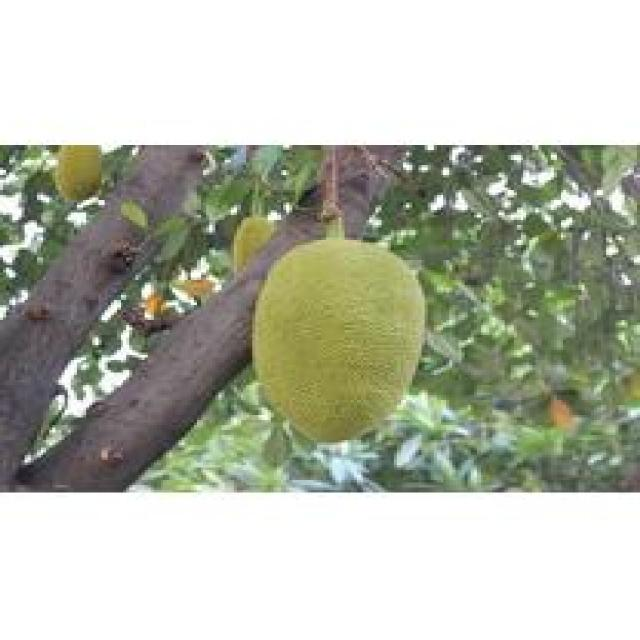Fruit: (237, 220, 446, 452)
